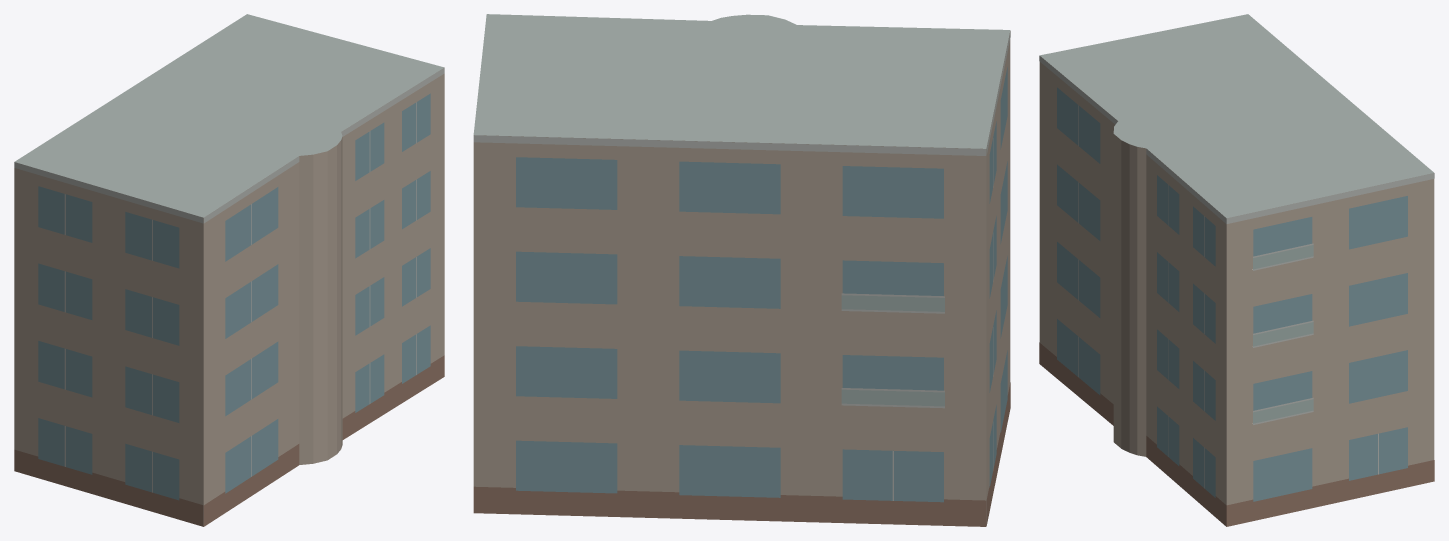
Rendered from survey-upis-32707216.glb.
3 renders of one model, left to right at view 1: azimuth 30°, elevation 25°; view 2: azimuth 150°, elevation 25°; view 3: azimuth 270°, elevation 25°, orthographic. The views are drawn at different scales.
Parts seen in each view (by area): view 1: survey-upis-32707216.tmp; view 2: survey-upis-32707216.tmp; view 3: survey-upis-32707216.tmp.
Boxes of the visible parts, bbox=[...] form: survey-upis-32707216.tmp: bbox=[14, 14, 444, 526]; survey-upis-32707216.tmp: bbox=[473, 14, 1010, 526]; survey-upis-32707216.tmp: bbox=[1039, 14, 1434, 526].
Bounding box in the file's own units: 18.19 × 12.8 × 14.86.
